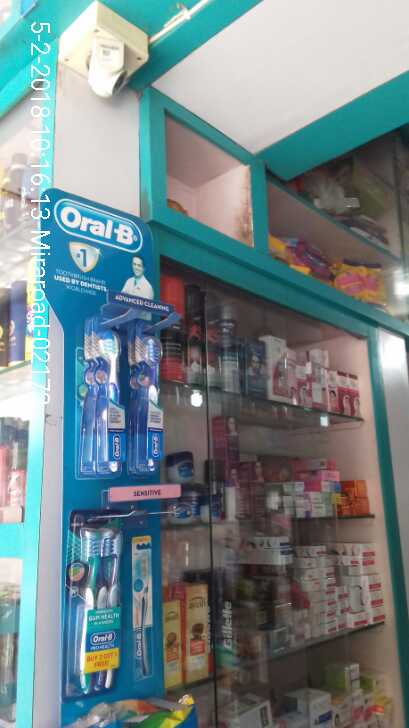oralb: (65, 519, 132, 693), (76, 334, 126, 477), (129, 327, 162, 472)
